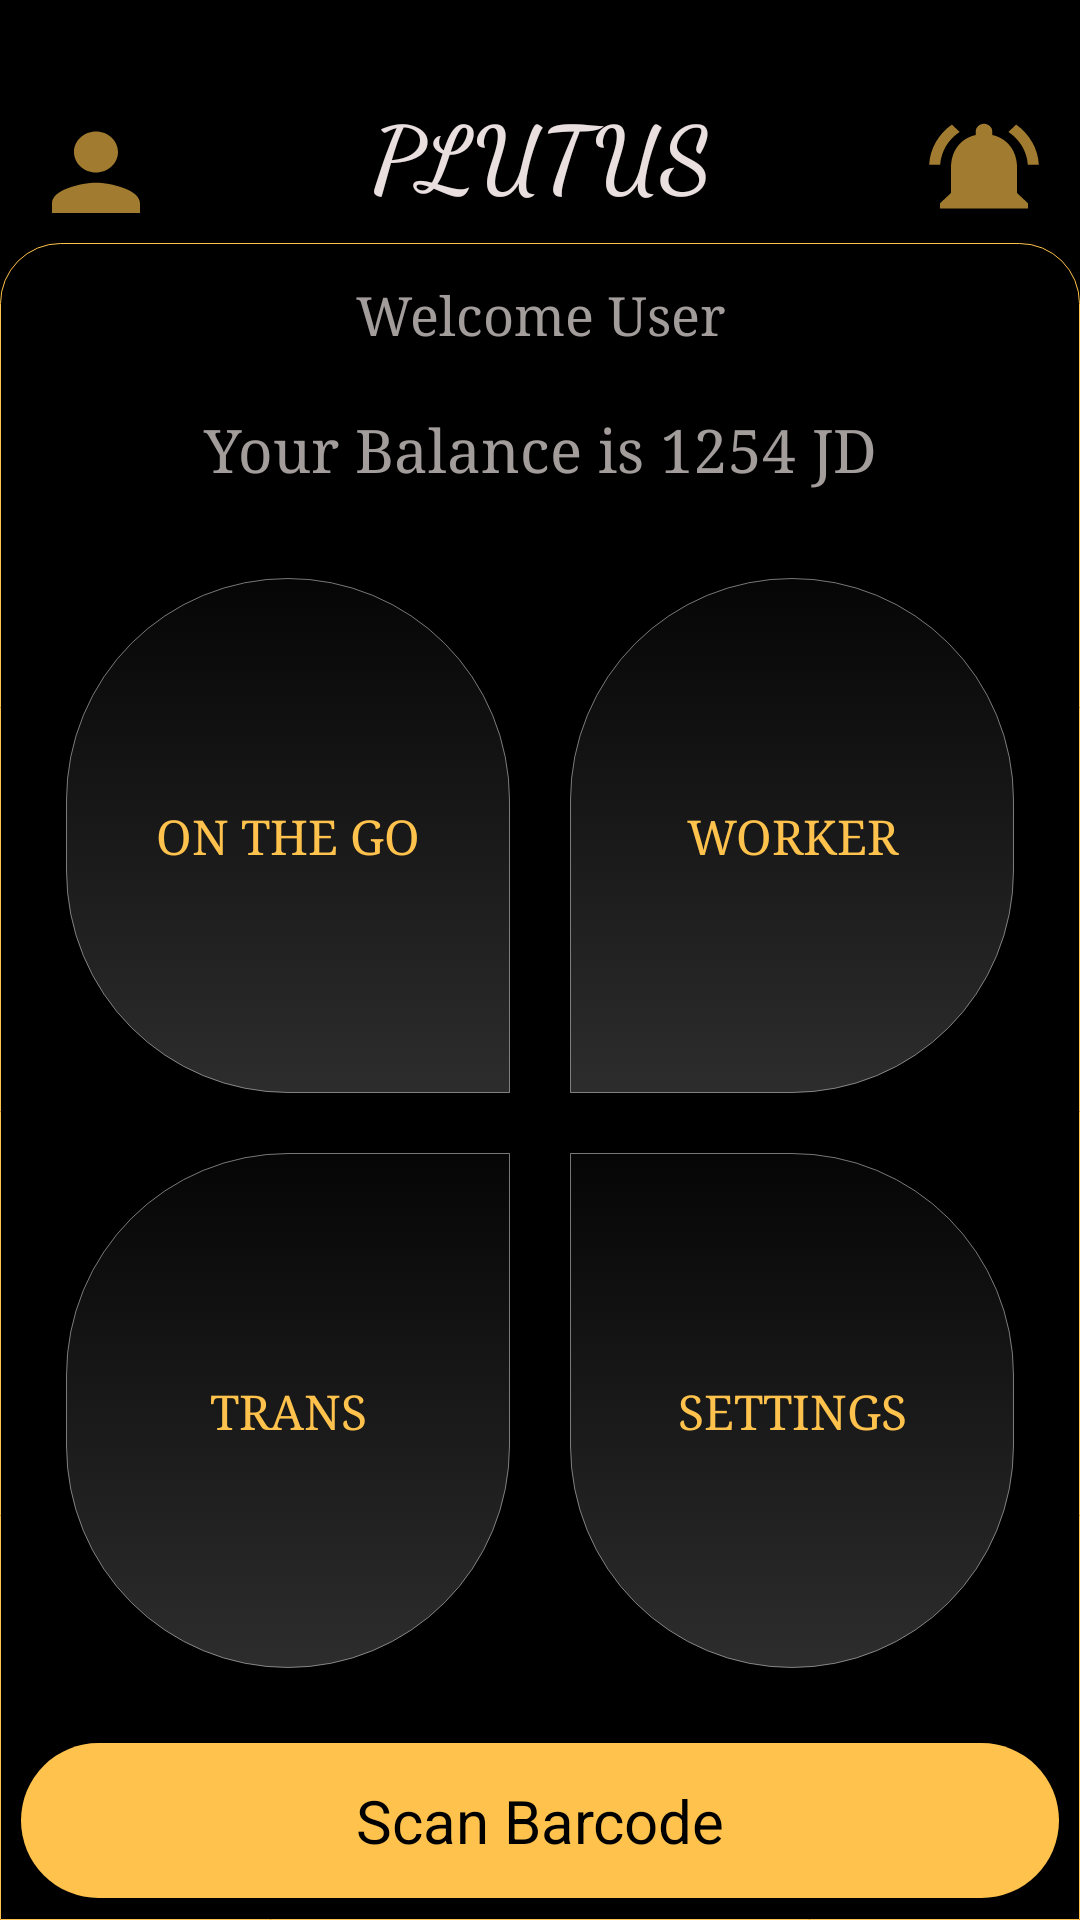

Named icons in this screenshot (1080px x 1920px) and their centers, (x=x, y=y):
notifications: (x=984, y=166)
person: (x=96, y=172)
